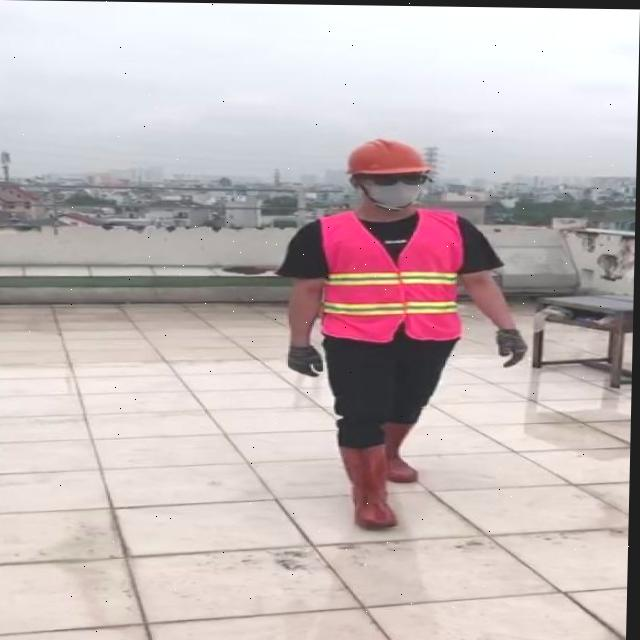Gloves: (496, 326, 528, 365), (289, 342, 325, 375)
Helmet: (347, 137, 432, 176)
Safety-Boot: (339, 438, 401, 529), (382, 422, 421, 481)
Safety-Vest: (316, 204, 466, 343)
